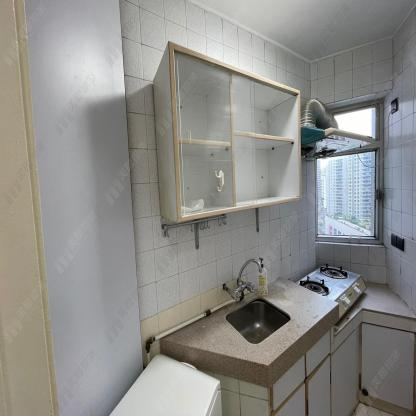Cupboard: (153, 42, 304, 221), (266, 310, 365, 415)
Exhaust Hood: (301, 126, 378, 161)
Faucet: (222, 251, 264, 297)
Sink: (224, 297, 290, 342)
Stove: (298, 263, 370, 324)
